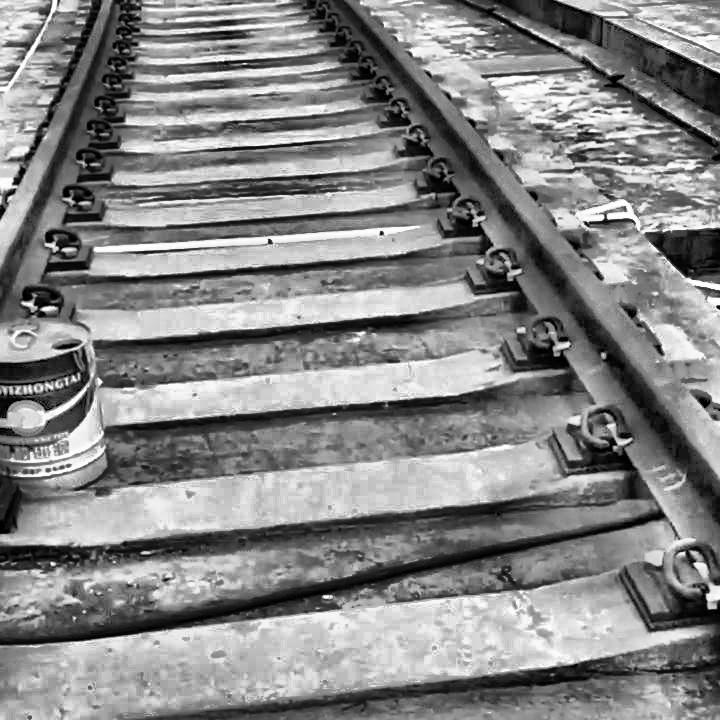Trash: (0, 307, 120, 493)
